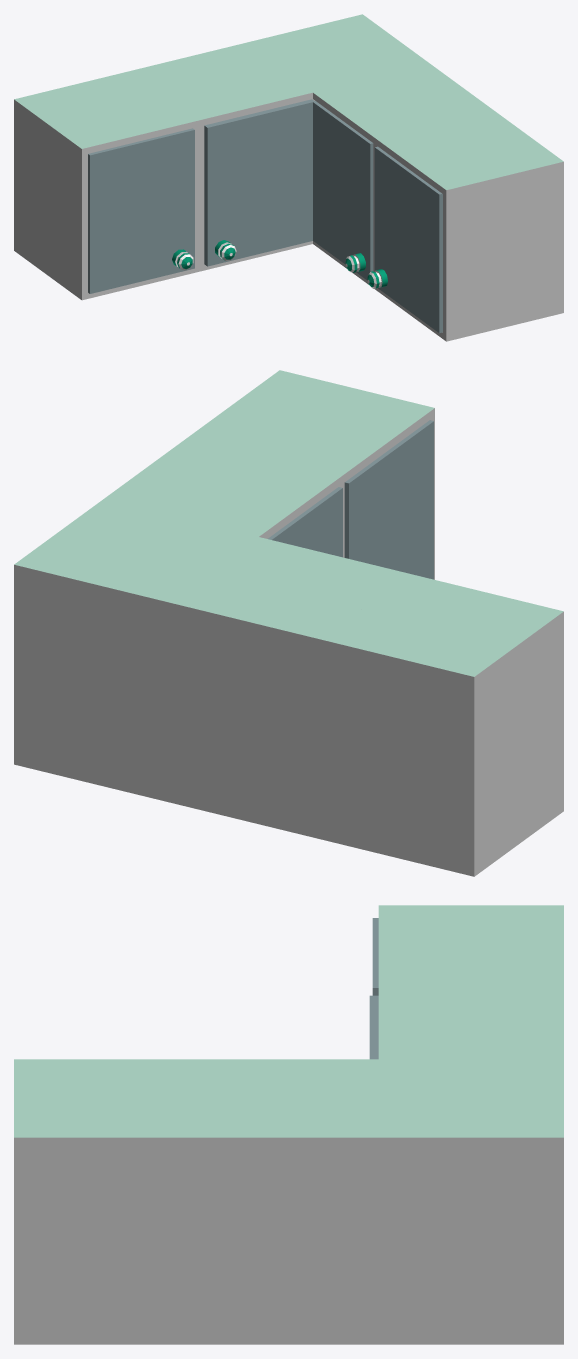
File: Cabinet_Green_Upper_Corner.fbx
3 renders of one model, top to bottom at view 1: azimuth 30°, elevation 25°; view 2: azimuth 150°, elevation 25°; view 3: azimuth 270°, elevation 25°, orthographic. The views are drawn at different scales.
Parts seen in each view (by area): view 1: Cabinet_Green_Upper_Corner, Cabinet_Green_Upper02, Cabinet_Green_Upper01, Cabinet_Green_Upper04, Cabinet_Green_Upper03; view 2: Cabinet_Green_Upper_Corner, Cabinet_Green_Upper04, Cabinet_Green_Upper03; view 3: Cabinet_Green_Upper_Corner, Cabinet_Green_Upper02, Cabinet_Green_Upper01.
Part boxes in pixels (x1,y1,x2,y2): Cabinet_Green_Upper_Corner: (14, 14, 563, 341); Cabinet_Green_Upper02: (204, 99, 314, 266); Cabinet_Green_Upper01: (88, 128, 194, 293); Cabinet_Green_Upper04: (367, 146, 442, 333); Cabinet_Green_Upper03: (313, 100, 373, 280); Cabinet_Green_Upper_Corner: (14, 370, 563, 876); Cabinet_Green_Upper04: (344, 420, 433, 579); Cabinet_Green_Upper03: (268, 487, 342, 557); Cabinet_Green_Upper_Corner: (14, 905, 563, 1344); Cabinet_Green_Upper02: (369, 995, 378, 1059); Cabinet_Green_Upper01: (372, 918, 378, 995).
Bounding box in the file's own units: 200 × 82.98 × 200.
